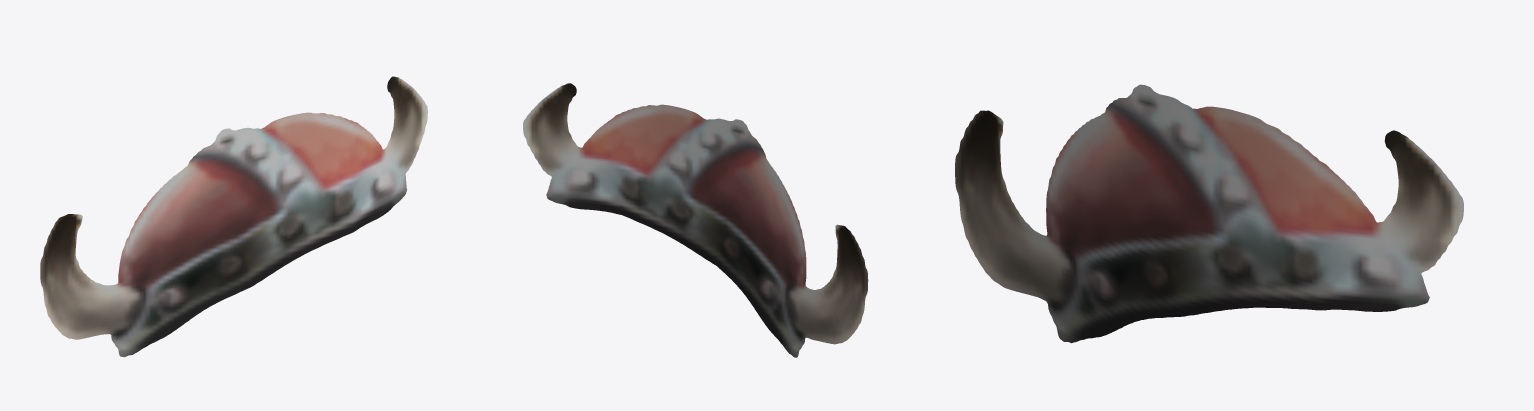
File: Viking Helmet.FBX
The picture shows the model from 3 angles, left to right: view 1: azimuth 30°, elevation 25°; view 2: azimuth 150°, elevation 25°; view 3: azimuth 330°, elevation 25°; orthographic projection. The views are drawn at different scales.
Parts seen in each view (by area): view 1: Viking Helmet; view 2: Viking Helmet; view 3: Viking Helmet.
Part boxes in pixels (<box>): Viking Helmet: <box>40,76,427,357</box>; Viking Helmet: <box>523,83,868,357</box>; Viking Helmet: <box>955,84,1463,343</box>.
Bounding box in the file's own units: 47.85 × 4.24 × 36.12.
